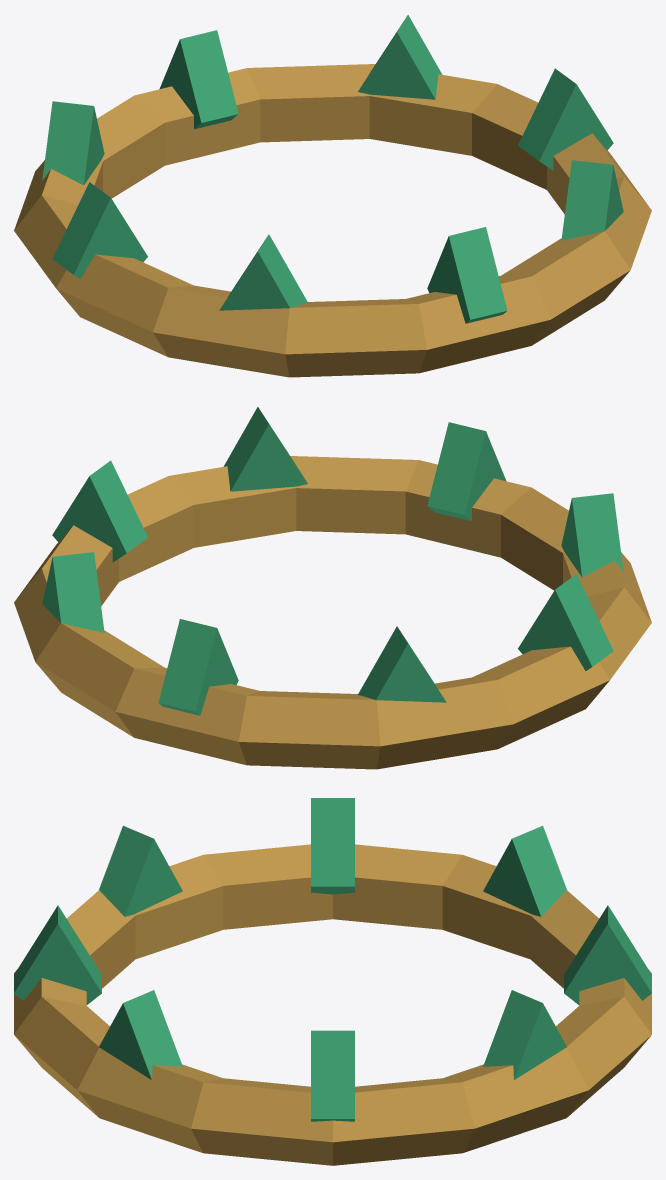
Rendered from lotus_lip.obj.
3 renders of one model, top to bottom at view 1: azimuth 30°, elevation 25°; view 2: azimuth 150°, elevation 25°; view 3: azimuth 270°, elevation 25°, orthographic. The views are drawn at different scales.
Parts seen in each view (by area): view 1: lotus_mouth, petal_6_lip_petal_edge, petal_2_lip_petal_edge, petal_1_lip_petal_edge, petal_5_lip_petal_edge, petal_7_lip_petal, petal_0_lip_petal, petal_4_lip_petal_edge, petal_0_lip_petal_edge, petal_4_lip_petal, petal_3_lip_petal, petal_3_lip_petal_edge (+5 smaller); view 2: lotus_mouth, petal_2_lip_petal_edge, petal_6_lip_petal_edge, petal_7_lip_petal_edge, petal_3_lip_petal_edge, petal_1_lip_petal, petal_0_lip_petal, petal_4_lip_petal_edge, petal_0_lip_petal_edge, petal_4_lip_petal, petal_5_lip_petal, petal_5_lip_petal_edge (+5 smaller); view 3: lotus_mouth, petal_4_lip_petal_edge, petal_0_lip_petal_edge, petal_2_lip_petal, petal_6_lip_petal, petal_3_lip_petal_edge, petal_5_lip_petal_edge, petal_1_lip_petal_edge, petal_7_lip_petal_edge, petal_3_lip_petal, petal_5_lip_petal, petal_2_lip_petal_edge (+3 smaller).
Boxes of the visible parts, left/top/right/bottom form: lotus_mouth: left=14, top=64, right=651, bottom=377; petal_6_lip_petal_edge: left=180, top=30, right=238, bottom=129; petal_2_lip_petal_edge: left=449, top=227, right=507, bottom=323; petal_1_lip_petal_edge: left=561, top=160, right=613, bottom=240; petal_5_lip_petal_edge: left=42, top=101, right=93, bottom=185; petal_7_lip_petal: left=358, top=32, right=435, bottom=99; petal_0_lip_petal: left=539, top=84, right=613, bottom=170; petal_4_lip_petal_edge: left=52, top=182, right=110, bottom=274; petal_0_lip_petal_edge: left=518, top=68, right=576, bottom=160; petal_4_lip_petal: left=74, top=198, right=147, bottom=278; petal_3_lip_petal: left=219, top=252, right=289, bottom=310; petal_3_lip_petal_edge: left=228, top=234, right=307, bottom=307; lotus_mouth: left=14, top=456, right=651, bottom=769; petal_2_lip_petal_edge: left=427, top=422, right=485, bottom=521; petal_6_lip_petal_edge: left=158, top=619, right=216, bottom=715; petal_7_lip_petal_edge: left=52, top=552, right=104, bottom=632; petal_3_lip_petal_edge: left=572, top=493, right=623, bottom=577; petal_1_lip_petal: left=230, top=424, right=307, bottom=491; petal_0_lip_petal: left=52, top=476, right=126, bottom=562; petal_4_lip_petal_edge: left=555, top=574, right=613, bottom=666; petal_0_lip_petal_edge: left=89, top=460, right=147, bottom=552; petal_4_lip_petal: left=518, top=590, right=591, bottom=670; petal_5_lip_petal: left=376, top=644, right=446, bottom=702; petal_5_lip_petal_edge: left=358, top=626, right=437, bottom=699; lotus_mouth: left=14, top=844, right=651, bottom=1165; petal_4_lip_petal_edge: left=311, top=798, right=354, bottom=894; petal_0_lip_petal_edge: left=311, top=1030, right=354, bottom=1121; petal_2_lip_petal: left=14, top=924, right=101, bottom=1004; petal_6_lip_petal: left=564, top=924, right=651, bottom=1004; petal_3_lip_petal_edge: left=99, top=825, right=153, bottom=916; petal_5_lip_petal_edge: left=512, top=825, right=566, bottom=916; petal_1_lip_petal_edge: left=123, top=990, right=182, bottom=1079; petal_7_lip_petal_edge: left=483, top=990, right=542, bottom=1079; petal_3_lip_petal: left=125, top=839, right=182, bottom=916; petal_5_lip_petal: left=483, top=839, right=540, bottom=916; petal_2_lip_petal_edge: left=14, top=905, right=101, bottom=992.
Bounding box in the file's own units: 1.19 × 0.2513 × 1.16.
